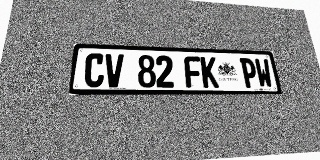2: (156, 55, 174, 87)
8: (138, 55, 156, 87)
C: (84, 53, 105, 87)
F: (184, 56, 203, 88)
K: (200, 57, 219, 88)
P: (239, 58, 259, 88)
V: (104, 54, 124, 87)
W: (254, 58, 274, 88)
